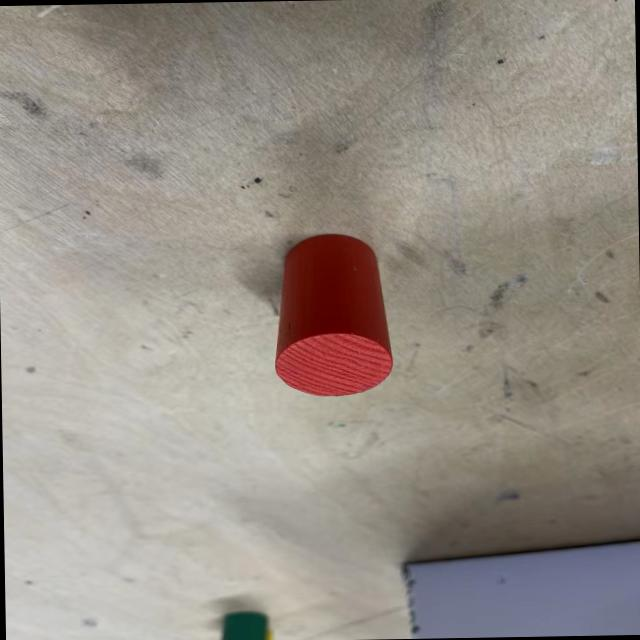red_cylinder: (271, 232, 394, 400)
